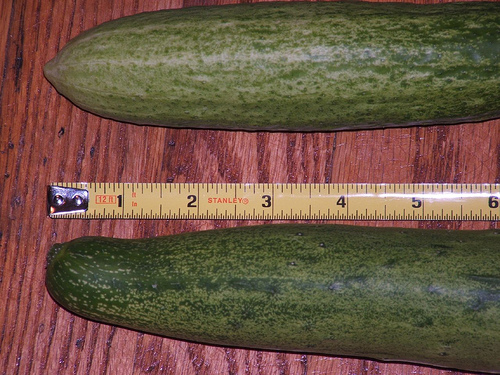cucumber: (42, 220, 499, 374), (43, 1, 499, 133)
